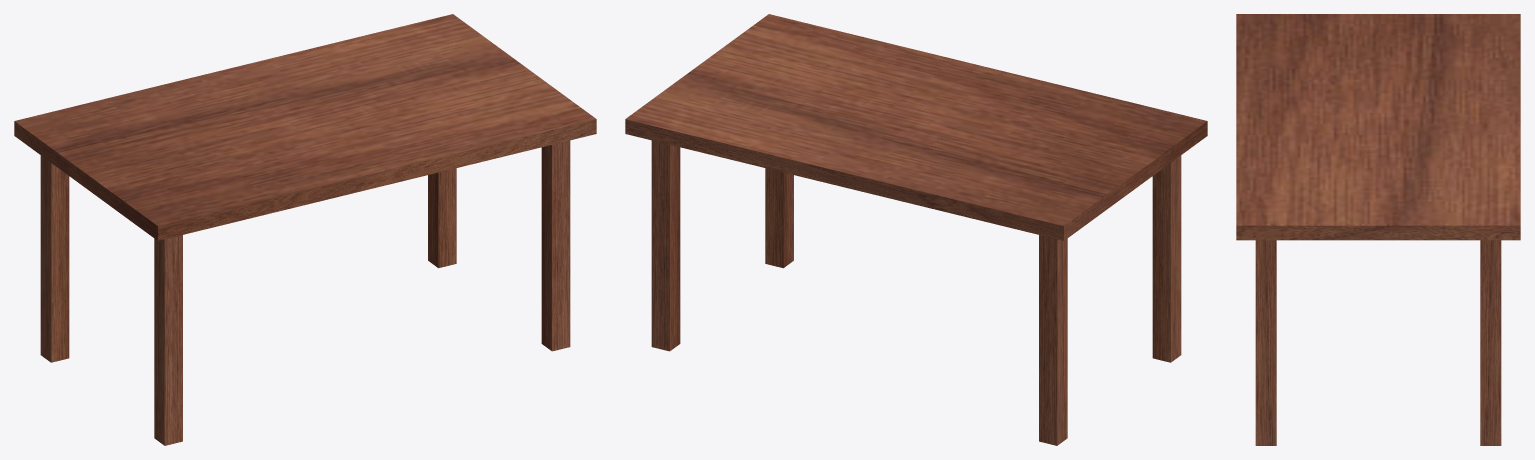
Rendered from Table.fbx.
3 views of the same model, side by side, from view 1: azimuth 30°, elevation 25°; view 2: azimuth 150°, elevation 25°; view 3: azimuth 270°, elevation 25° (orthographic).
Visible parts, largest first — view 1: Cube, Cube.001; view 2: Cube, Cube.001; view 3: Cube, Cube.001.
Part boxes in pixels (left/top/right/bottom): Cube: left=14, top=14, right=596, bottom=240; Cube.001: left=40, top=140, right=570, bottom=445; Cube: left=625, top=14, right=1207, bottom=240; Cube.001: left=651, top=140, right=1181, bottom=445; Cube: left=1236, top=14, right=1520, bottom=240; Cube.001: left=1255, top=240, right=1501, bottom=445.
Bounding box in the file's own units: 200 × 101 × 113.
